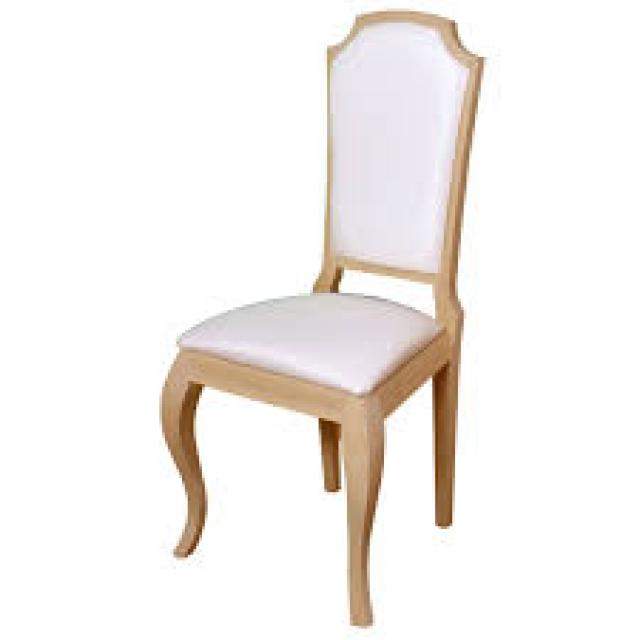bottle: (162, 10, 489, 628)
